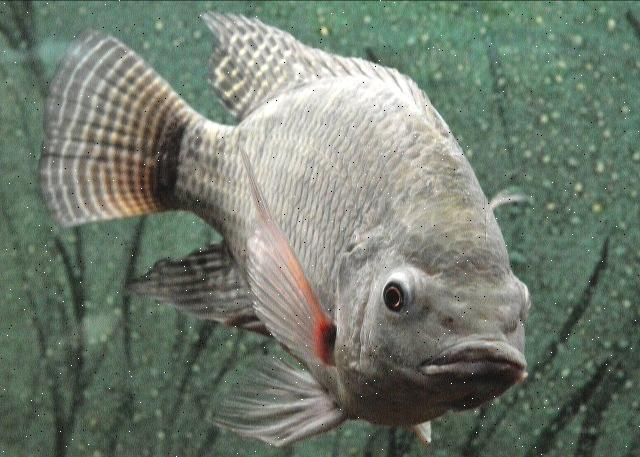Mulut: (417, 322, 547, 396)
Sirip Anal: (114, 234, 264, 334)
Sirip Dada: (230, 135, 344, 363)
Sirip Ekor: (34, 21, 180, 238)
Sirip Perut: (210, 344, 344, 448)
Sirip Punggung: (186, 5, 447, 121)
